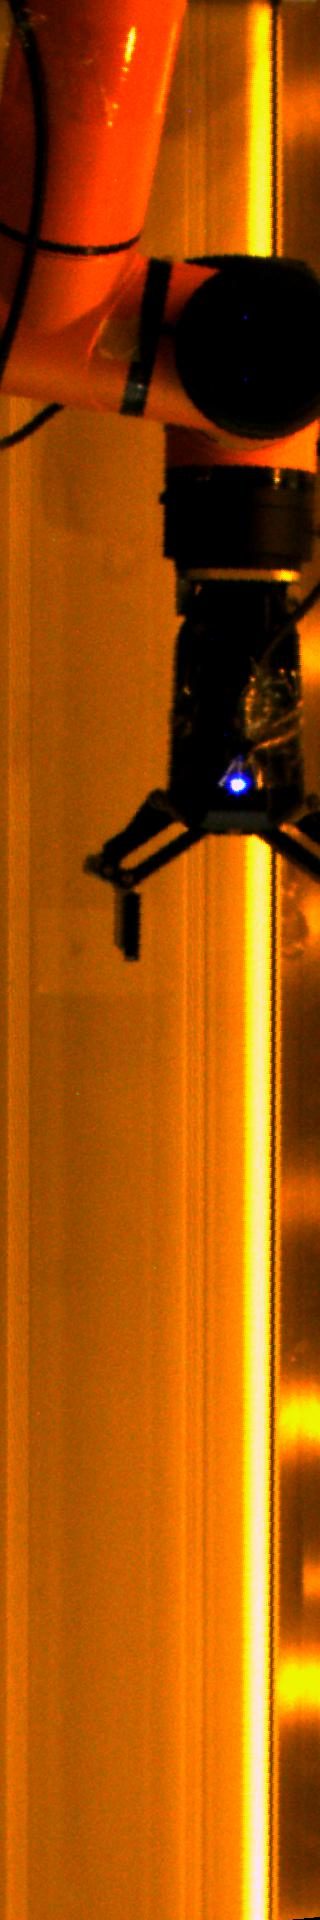keyPoint_1: (223, 770, 253, 800)
